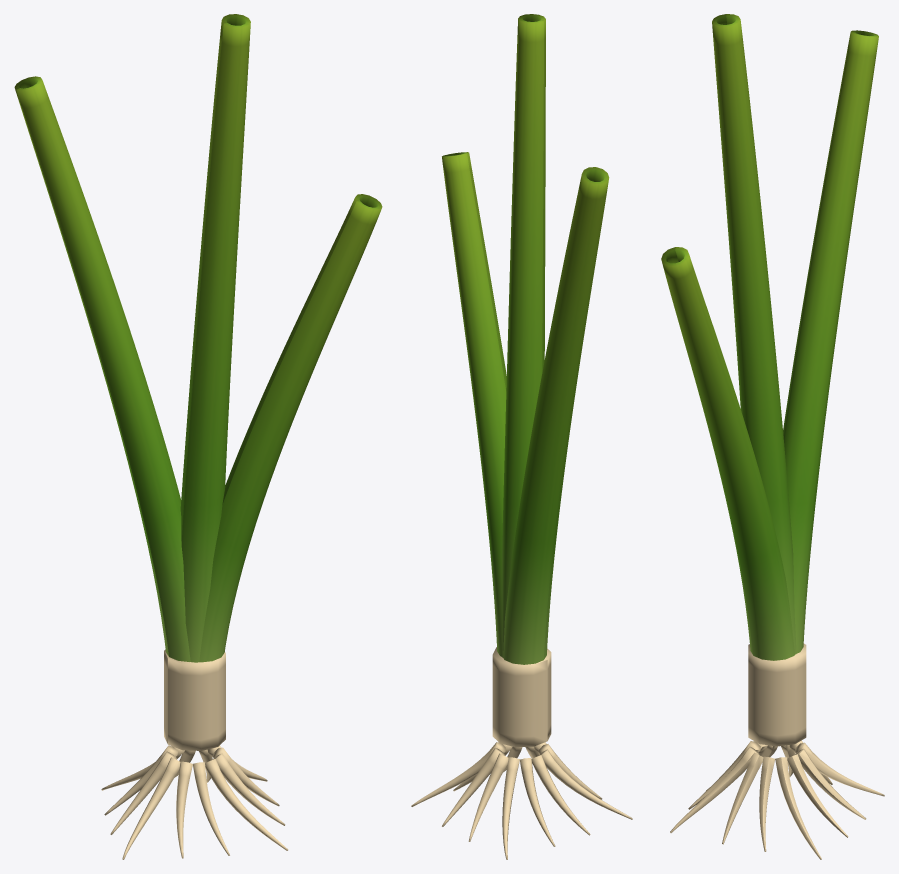
Rendered from NP_Onion_Young.fbx.
The picture shows the model from 3 angles, left to right: view 1: azimuth 30°, elevation 25°; view 2: azimuth 150°, elevation 25°; view 3: azimuth 270°, elevation 25°; orthographic projection. The views are drawn at different scales.
Visible parts, largest first — view 1: NP_Onion_Young; view 2: NP_Onion_Young; view 3: NP_Onion_Young.
Part boxes in pixels (x1,y1,x2,y2): NP_Onion_Young: [14, 14, 382, 859]; NP_Onion_Young: [411, 14, 632, 859]; NP_Onion_Young: [661, 14, 884, 859].
Bounding box in the file's own units: 20.9 × 60.74 × 15.33.
